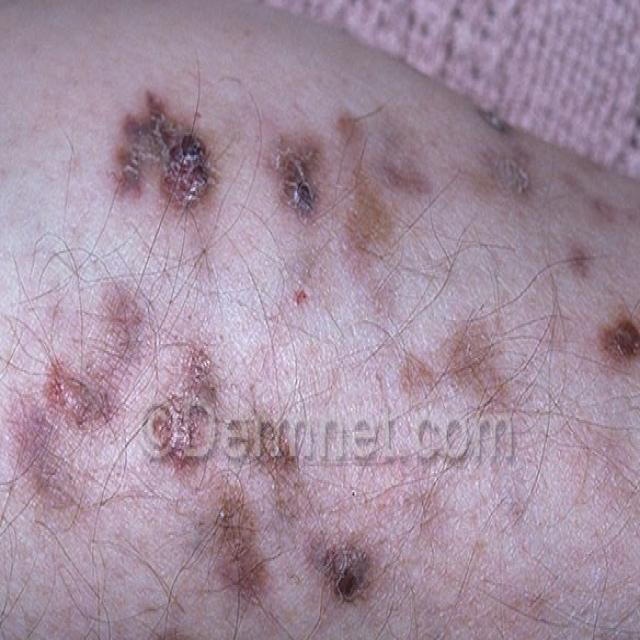Vascular Tumors: (27, 261, 296, 640), (387, 286, 525, 478), (102, 60, 232, 232), (461, 86, 555, 221), (268, 96, 342, 230), (571, 301, 640, 413), (322, 523, 388, 619)
